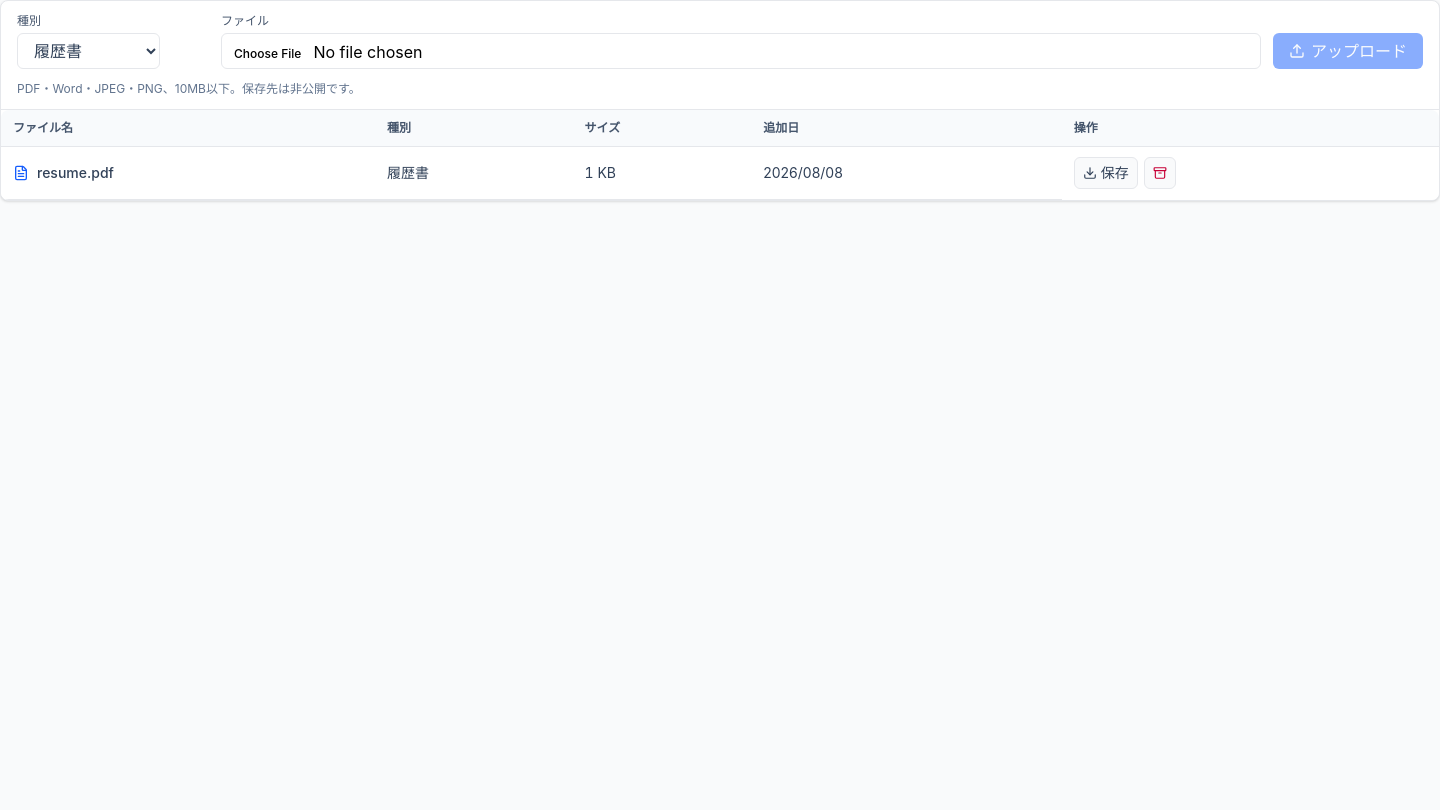
Test case: EntityFiles archive confirmation › opens a confirmation dialog with an accessible name when archive is clicked
The image size is (1440, 810).
Click the button named "resume.pdfをアーカイブ": (1160, 173) left=1144, top=157, right=1176, bottom=189
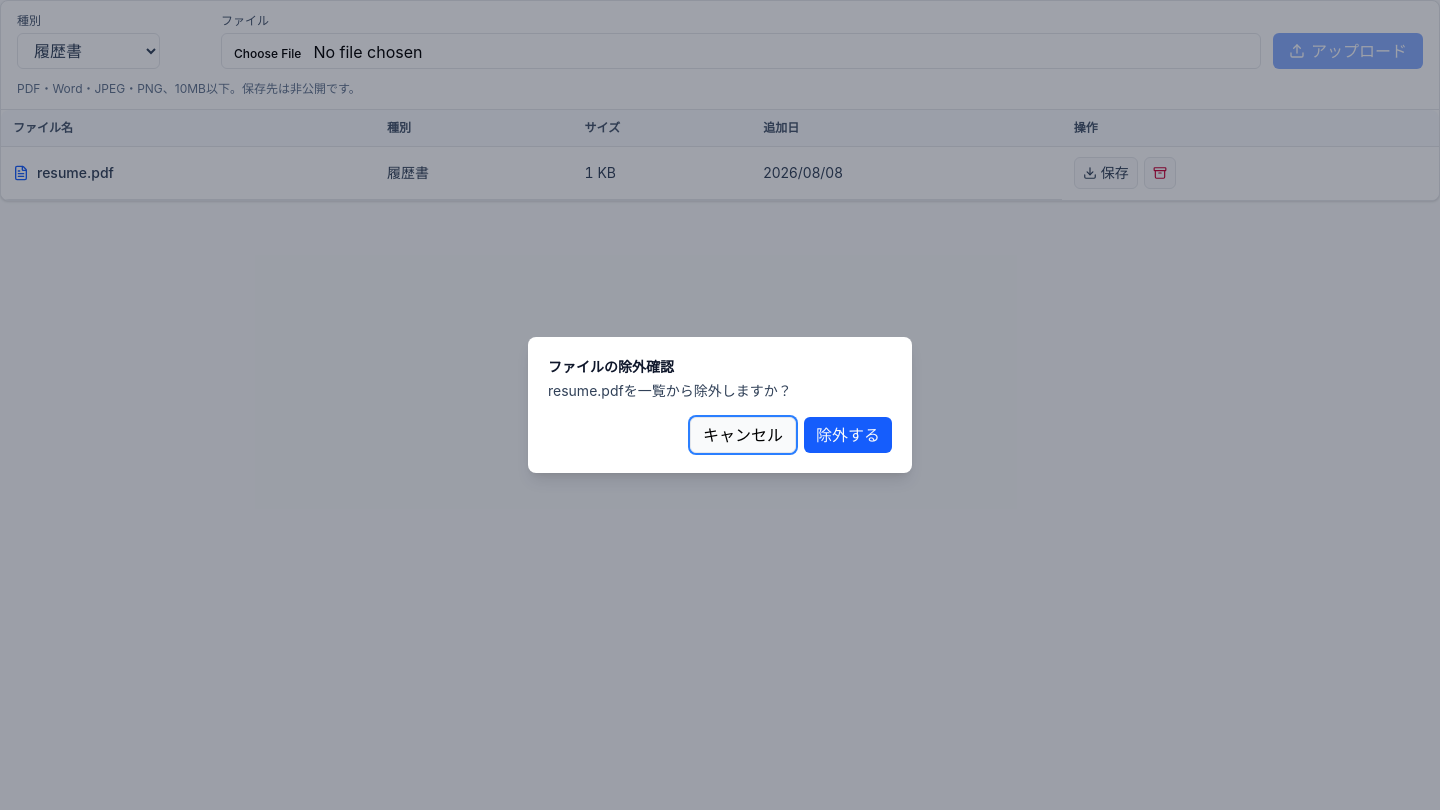
Expected: the dialog "ファイルの除外確認" is shown
